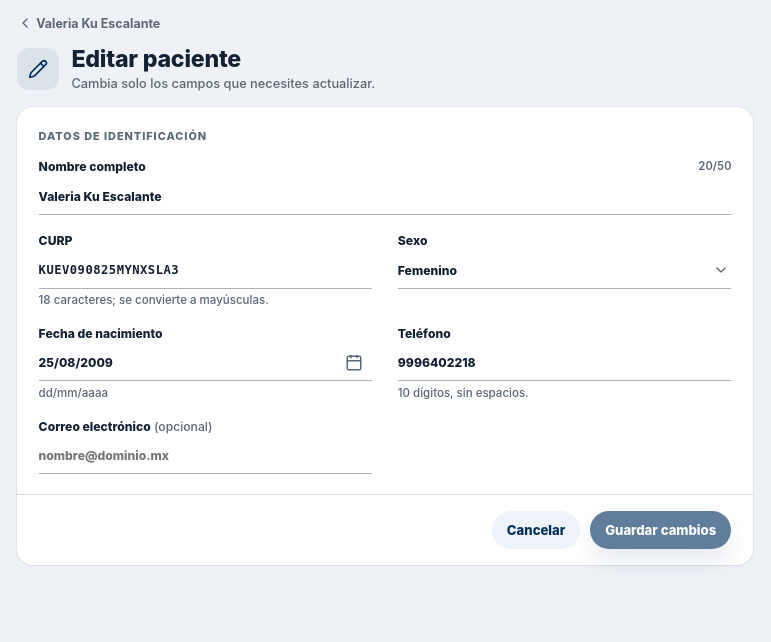
edición de paciente (EDT 4.3.2) › muestra un 409 de unicidad junto al campo (CURP o teléfono de otro paciente)
Replace the text in the field labelled "Teléfono" with "9998887777". click: (565, 363)
box: x1=398 y1=345 x2=731 y2=381
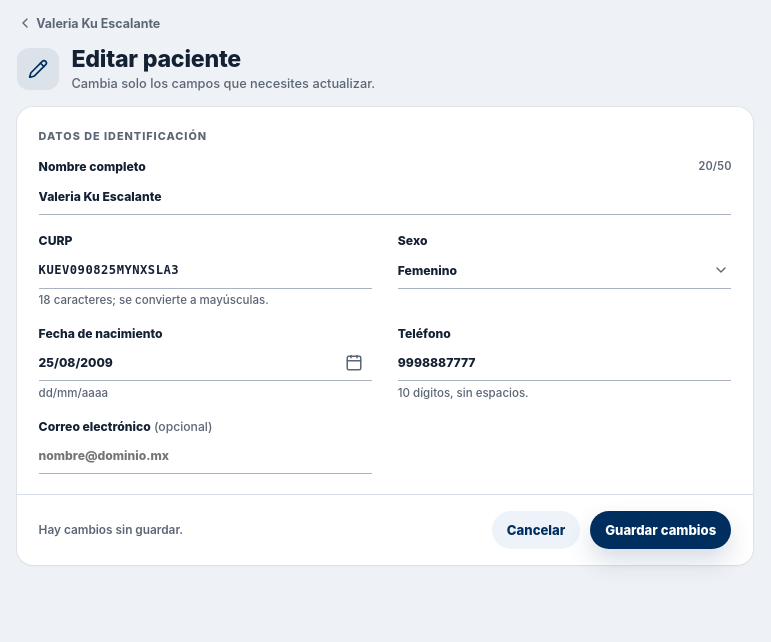
Click the button "Guardar cambios". click: (661, 530)
box: x1=590 y1=511 x2=731 y2=549
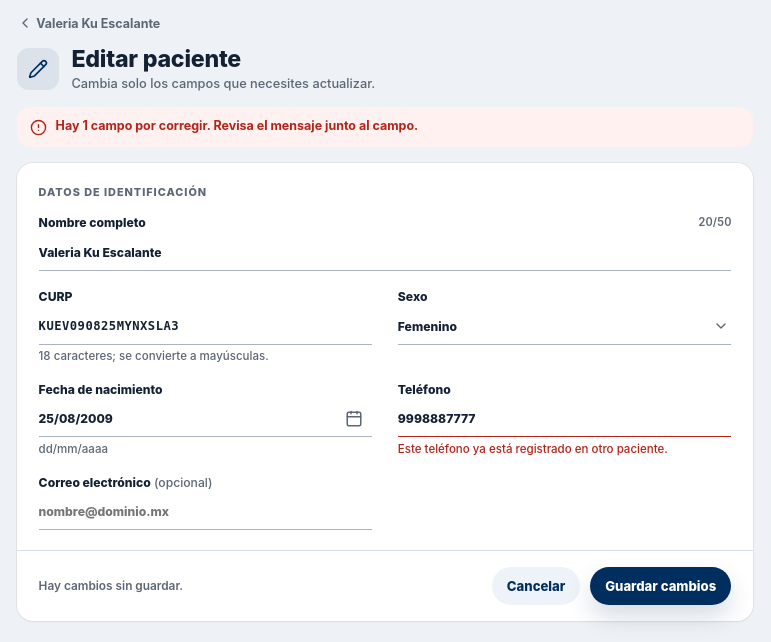
Check: the text "Este teléfono ya está registrado en otro paciente." is shown, box x1=398 y1=442 x2=668 y2=456
